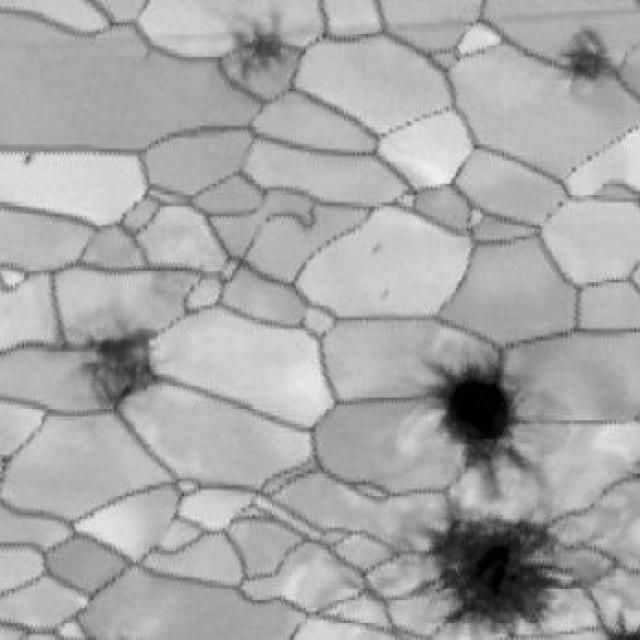good_void: (409, 488, 567, 640), (424, 349, 531, 494), (79, 327, 165, 410), (228, 15, 300, 81), (557, 25, 613, 92), (377, 285, 396, 302), (21, 150, 37, 169), (369, 241, 383, 257)
